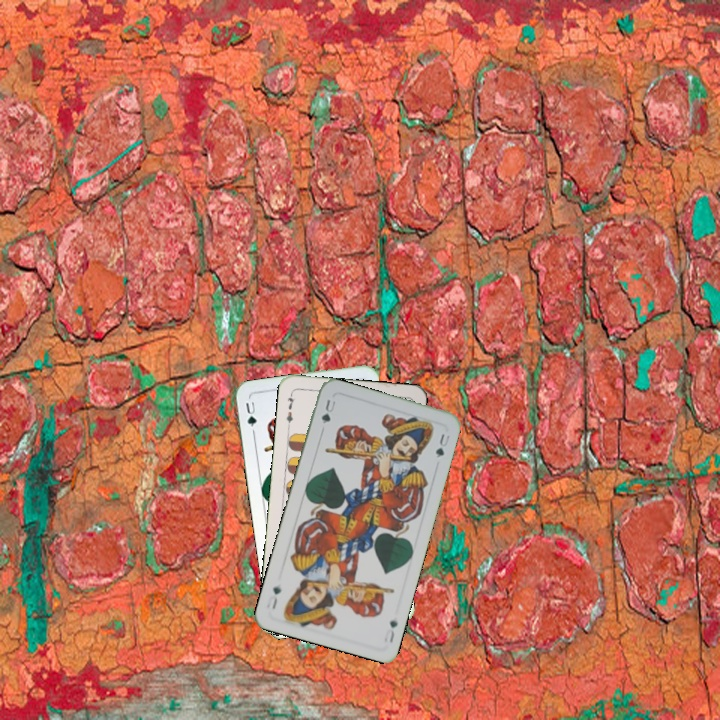E7: (282, 389, 297, 430)
GU: (241, 397, 259, 436), (317, 395, 338, 428), (383, 616, 400, 645)
